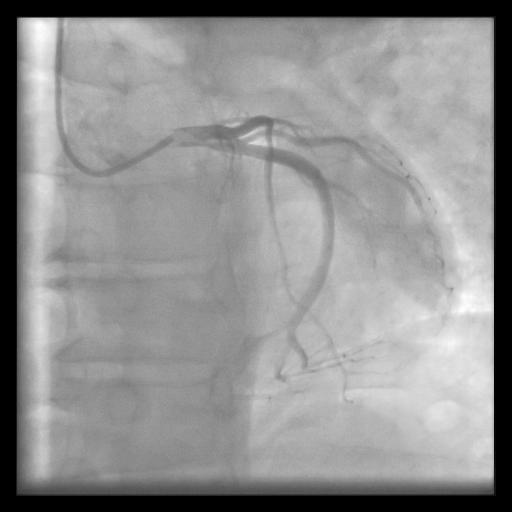Stenosis: (262, 126, 275, 162)
